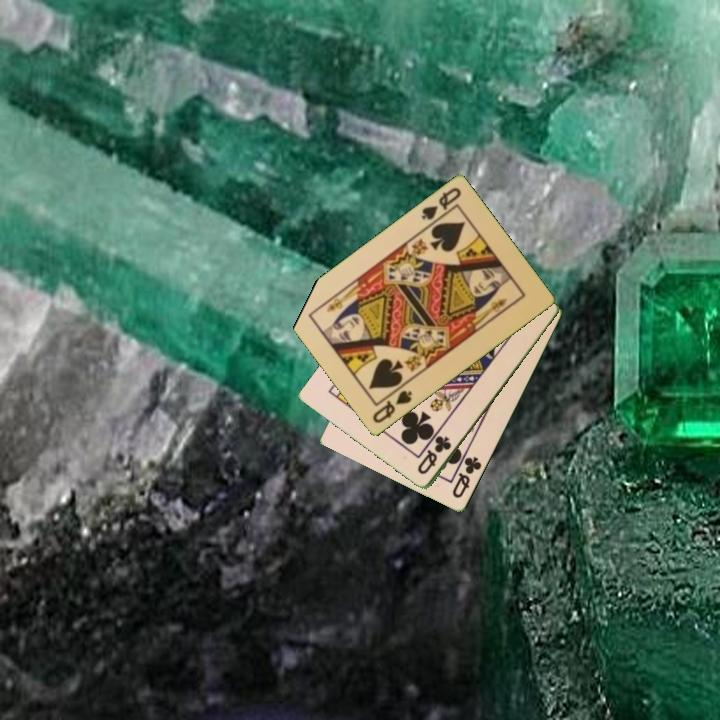Qc: (414, 432, 454, 478), (449, 453, 485, 501)
Qs: (418, 184, 464, 229), (369, 387, 415, 427)
